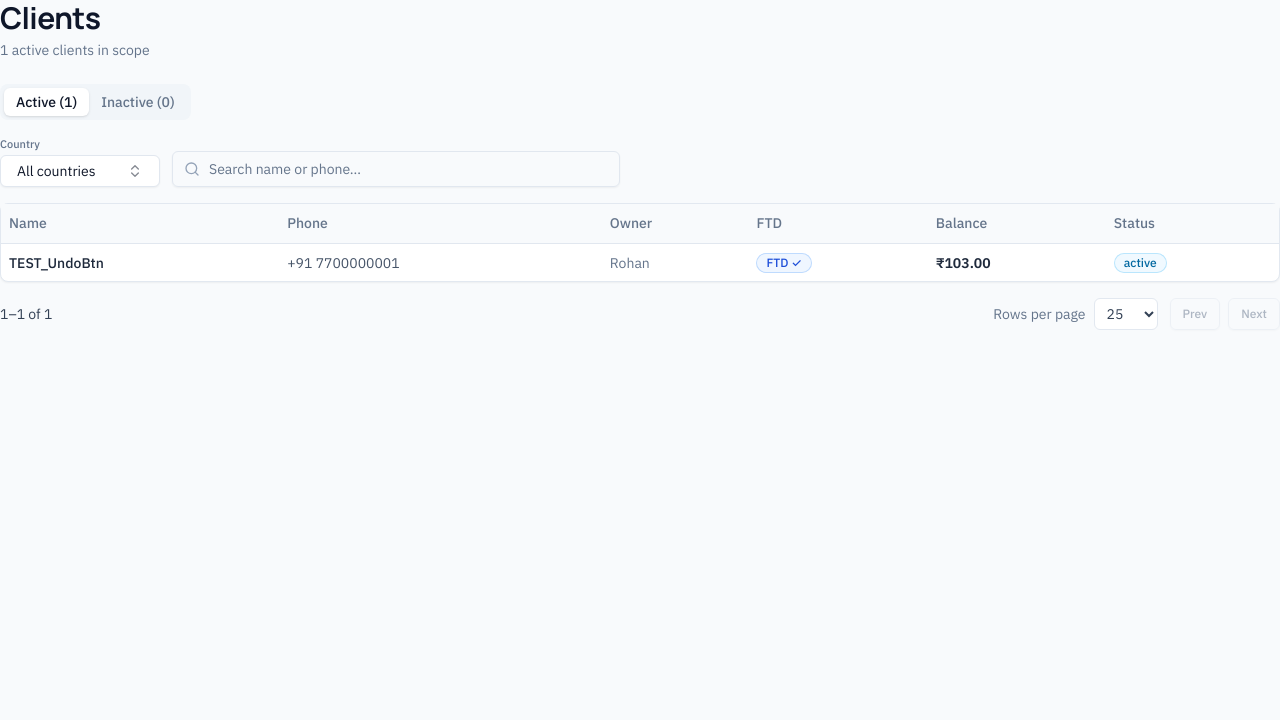
Test: Clients undo conversion › shows Undo conversion when user has clients:edit
The width and height of the screenshot is (1280, 720).
Click the row with test id "client-row-c-undo-1": [640, 262] box [1, 244, 1279, 281]
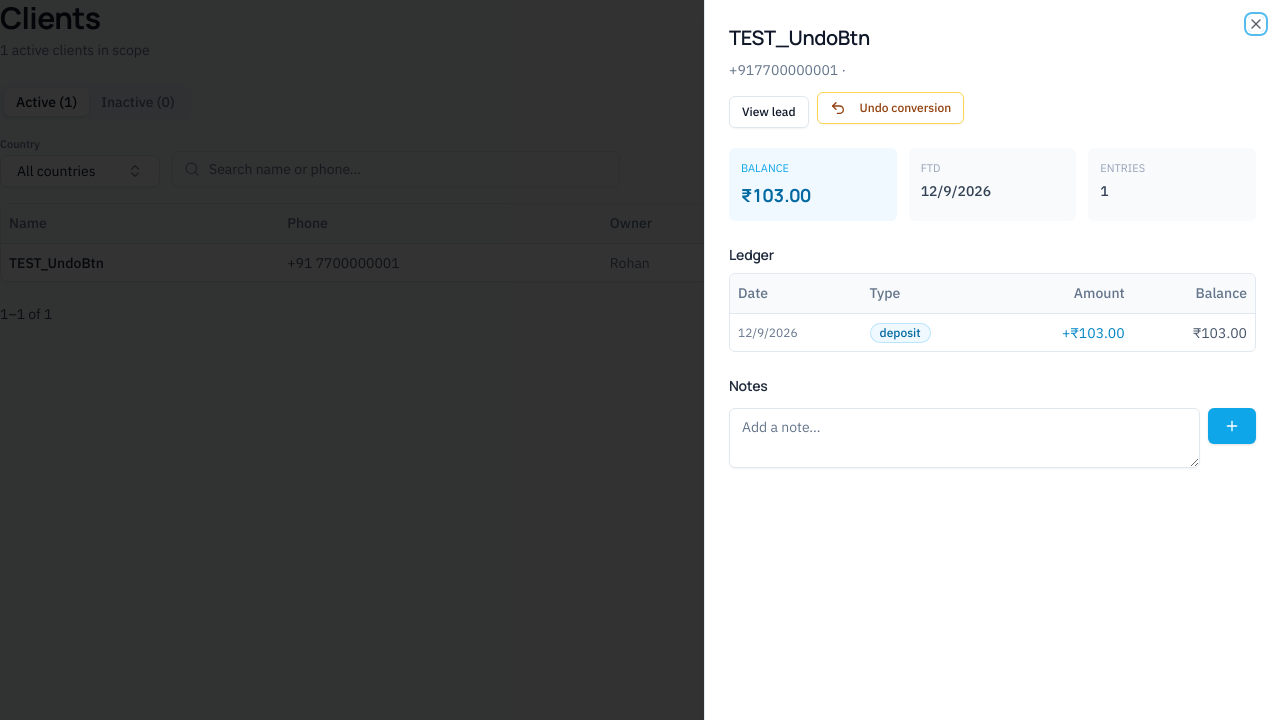
Result: the dialog with test id "client-detail" is shown at [704, 0, 1279, 719]
Result: the button with test id "client-unconvert-btn" is shown at [816, 92, 964, 124]
